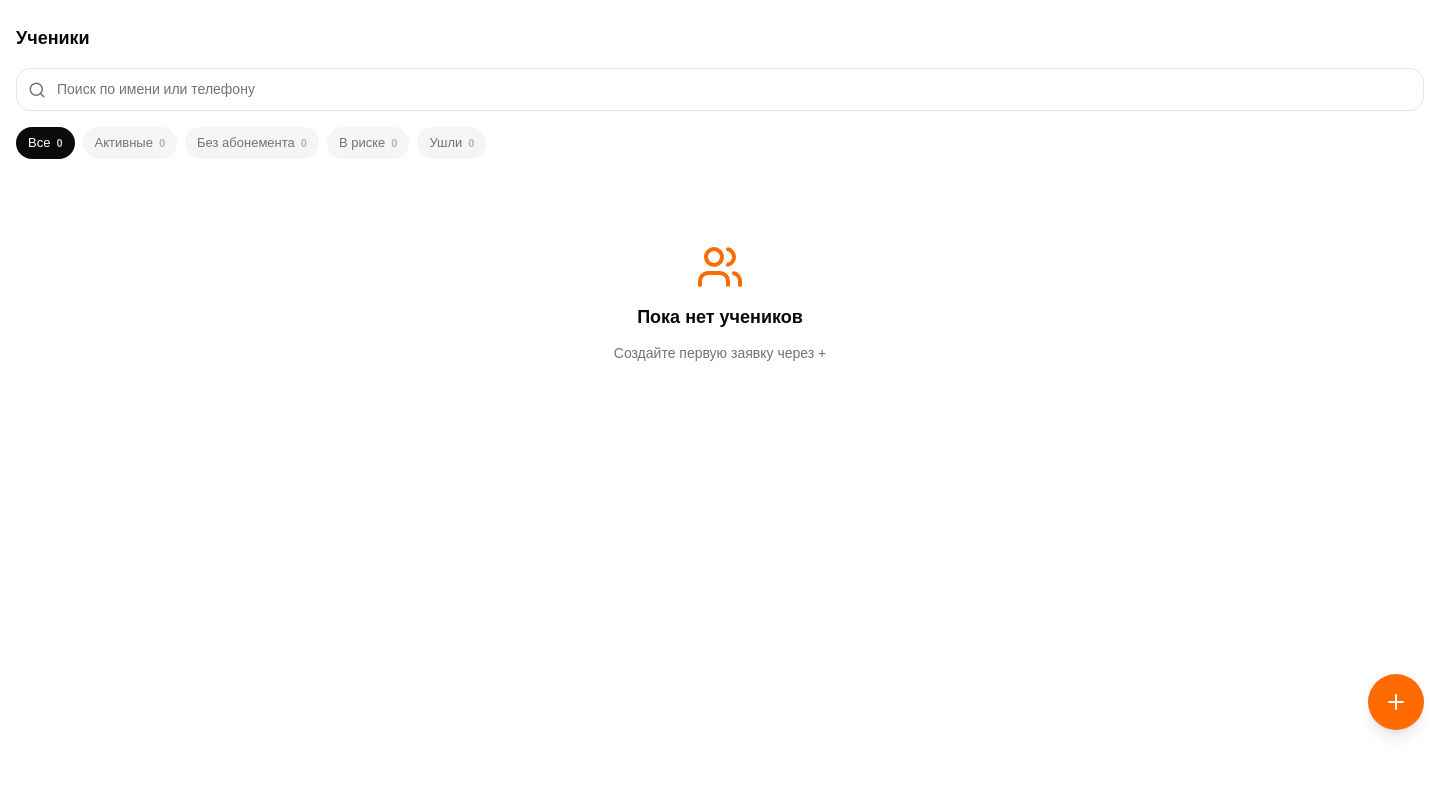
Test: Trainer students page › removes the Leads chip and routes unified search from server results
Expected: the button "Без абонемента 0" is shown, [185, 127, 319, 158]
Type "Мария" into the field with placeholder "Поиск по имени или телефону" at (720, 90), box [16, 68, 1424, 111]
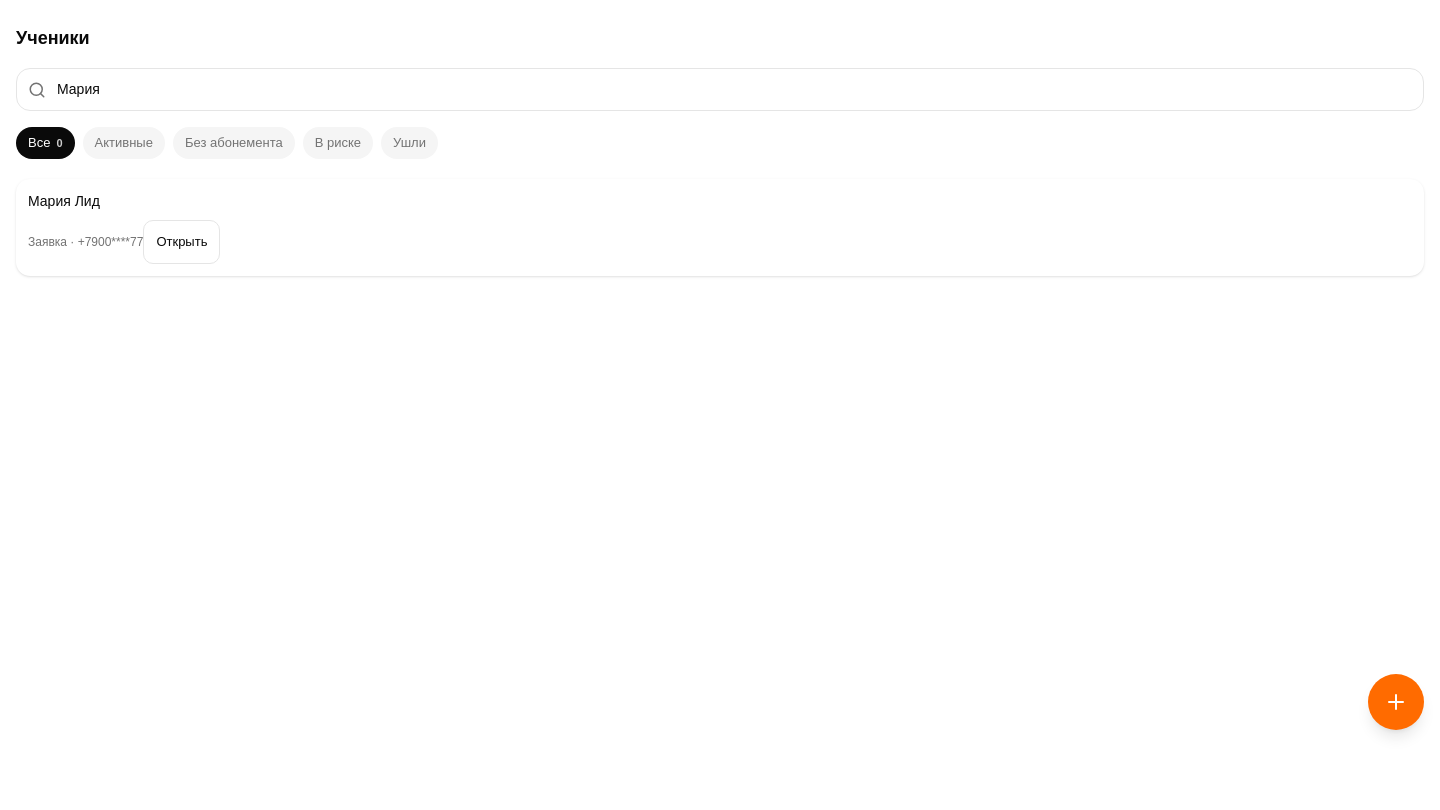
Now the text "Мария Лид" is shown, box [28, 192, 100, 208]
Now the text "Заявка · +7900****77" is shown, box [28, 235, 143, 249]
